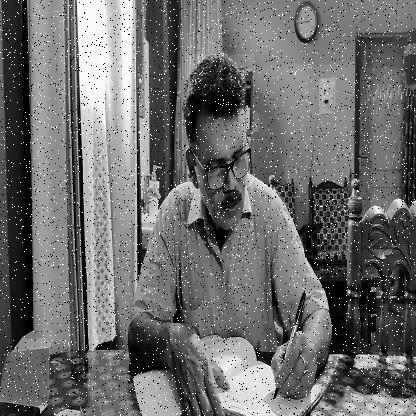Normal: (187, 54, 254, 230)
